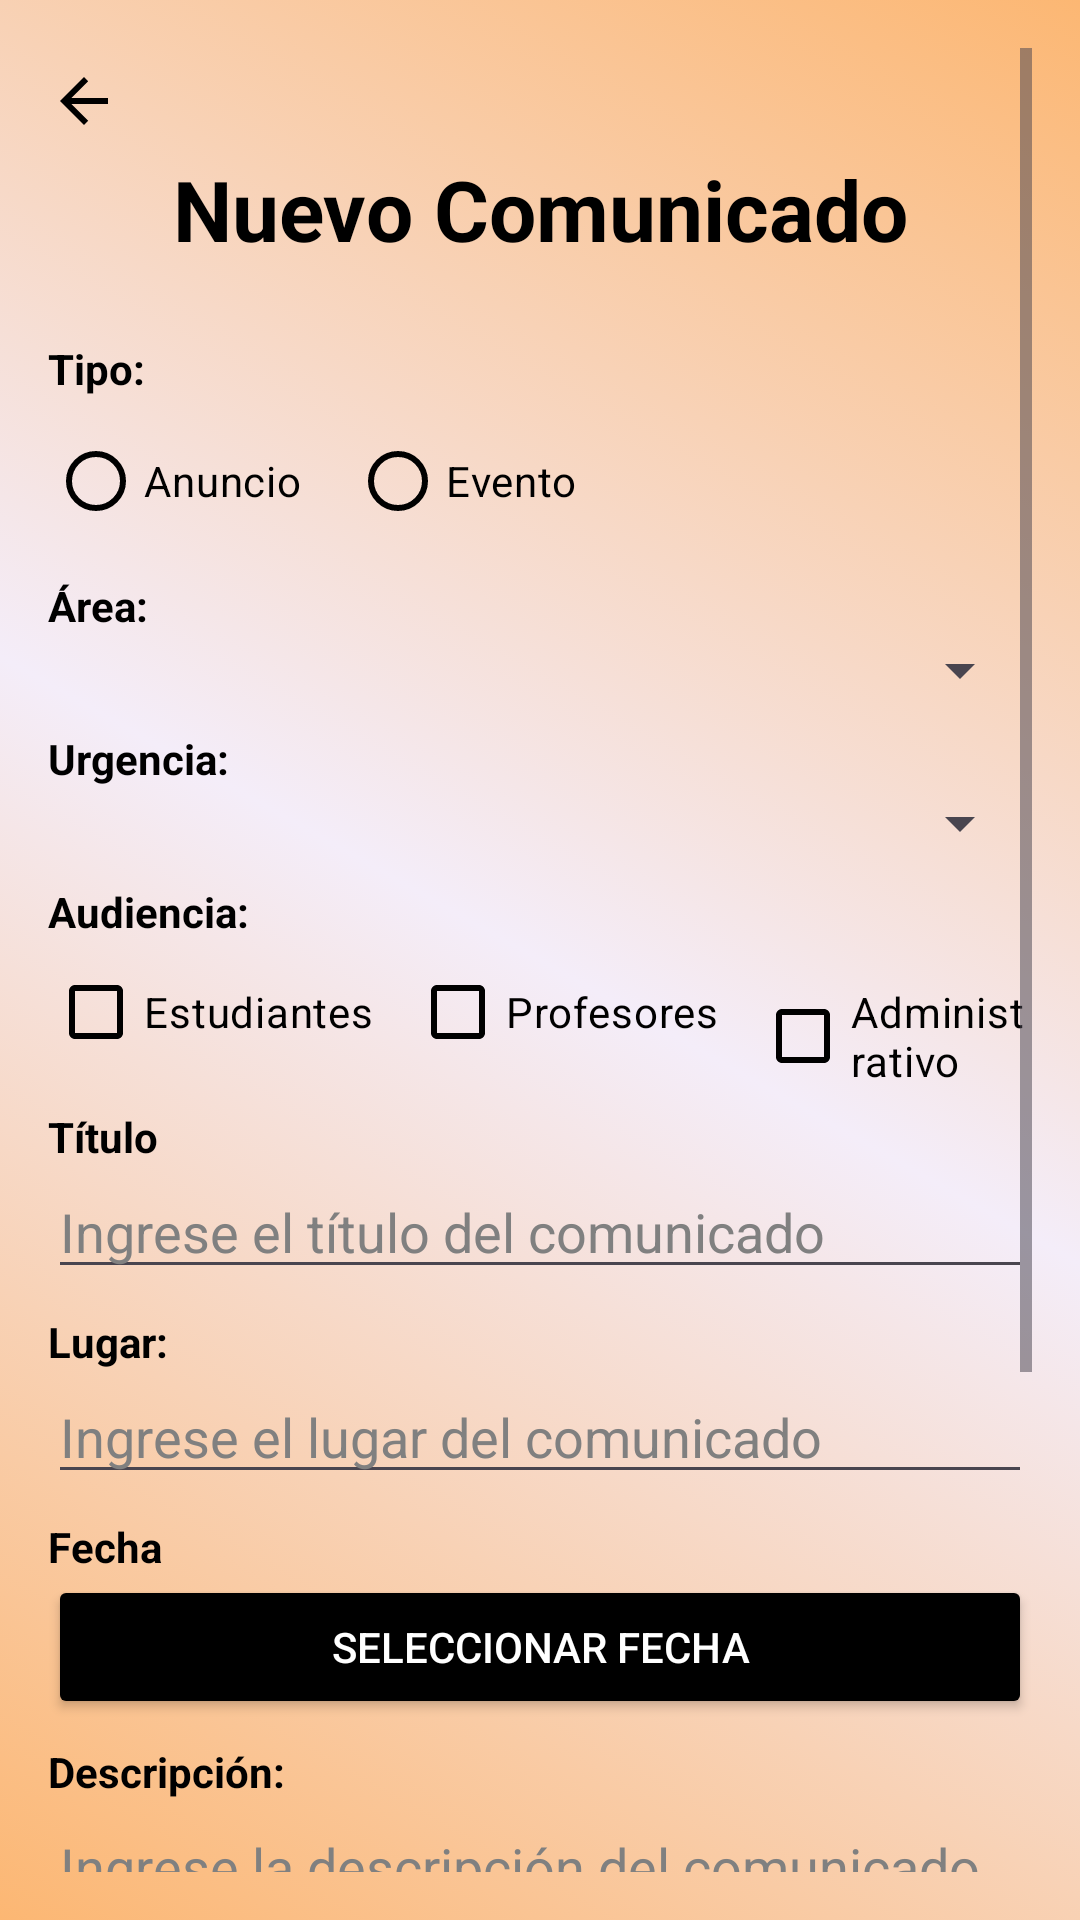

Where icons sit on this 1080 × 1920 app screen, as (x1, y1, x2, y2):
Volver: (60, 77, 108, 125)
